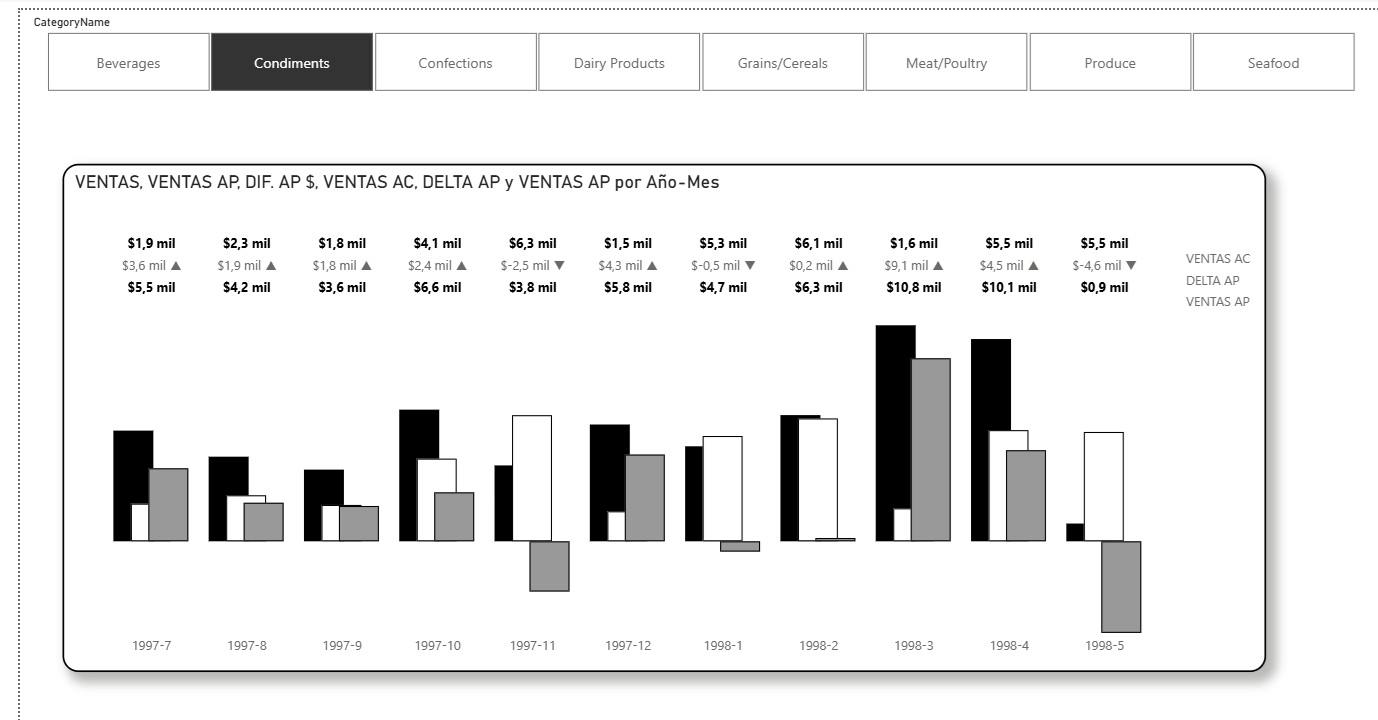

Layout of this report page (visuals, bound fields, positions):
{"tool":"powerbi","page":{"name":"COLUMNAS","canvas":[1280,720],"ordinal":2},"visuals":[{"type":"slicer","fields":{"Values":["Categories.CategoryName"]},"box":[0,0,1280,83.3],"z":0},{"type":"lineClusteredColumnComboChart","fields":{"Category":["CALENDARIO.Año-Mes"],"Y":["MEDIDAS.VENTAS","MEDIDAS.VENTAS AP","MEDIDAS.DIF. AP $"],"Y2":["MEDIDAS.Linea Ficticia","MEDIDAS.Linea Ficticia 2","MEDIDAS.Linea Ficticia 3"]},"box":[39.5,144.9,1132.7,478.5],"z":1000}]}

Visuals, with their boxes on the page's 1280x720 design canvas (x1, y1, x2, y2). These are canvas units, not pixel positions in the 1378x720 screenshot, which may show the page scaled, cropped or inside an application window:
slicer - Categories.CategoryName: 0 0 1280 83
lineClusteredColumnComboChart - CALENDARIO.Año-Mes x MEDIDAS.VENTAS: 40 145 1172 623
